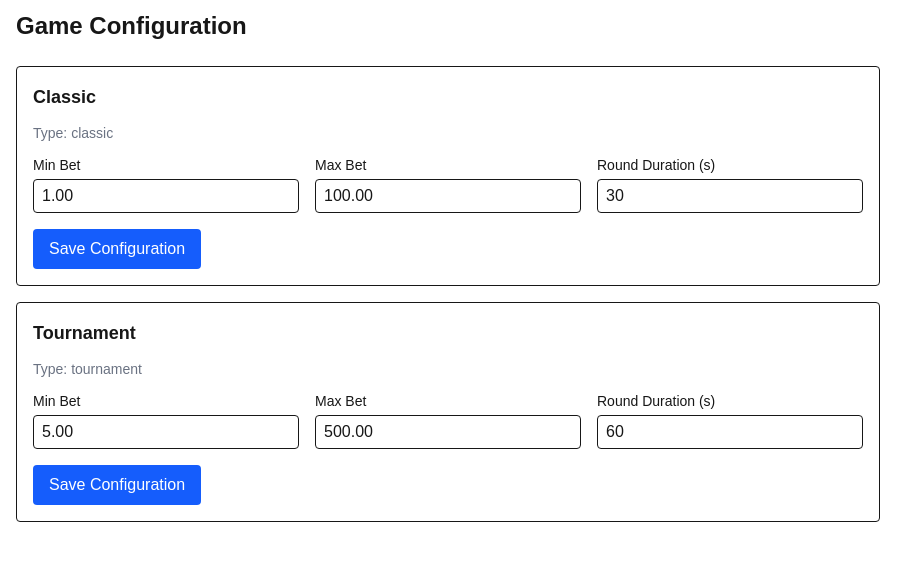
Test: AdminConfigPage › shows success message after saving
Expected: the heading "Classic" is shown, [33,87,96,107]
Step 1. Click the submit button → (117, 249), box [33,229,201,269]
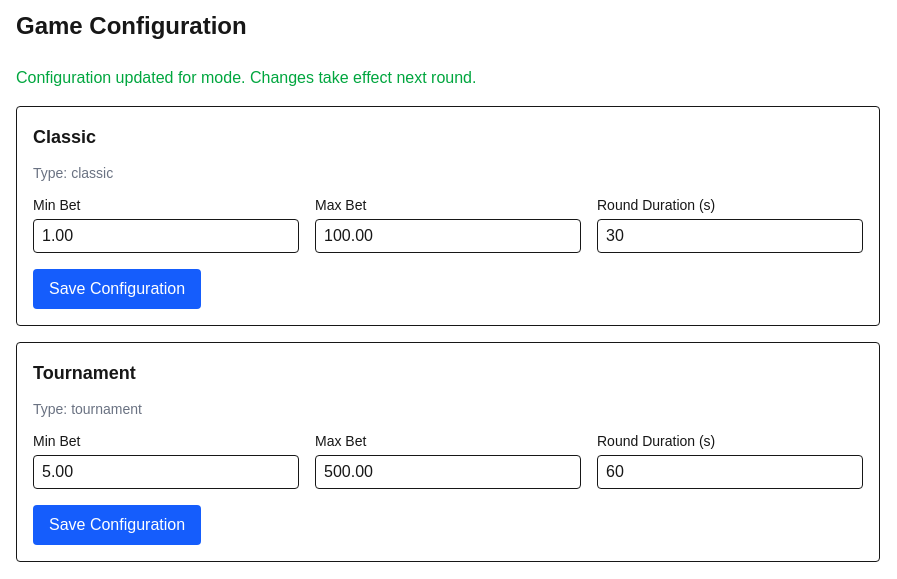
Result: the text "Configuration updated for mode. Changes take effect next round." is shown at [16,69,476,86]
